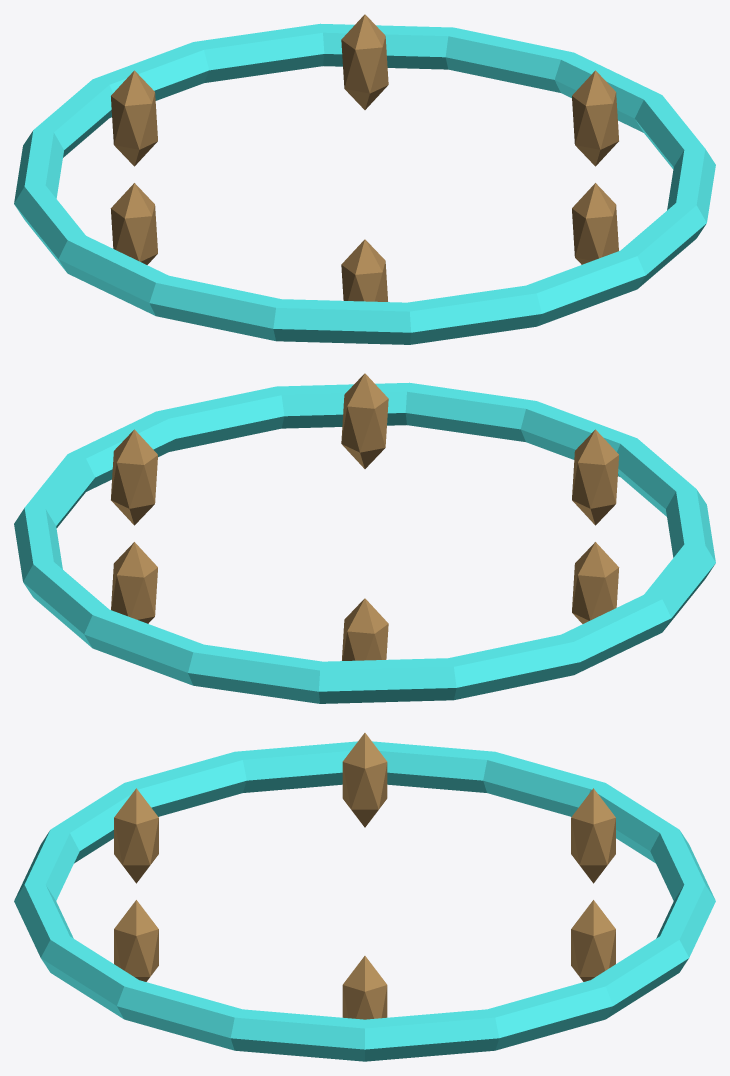
File: SH10_L10_CoreRing.fbx
The picture shows the model from 3 angles, top to bottom: view 1: azimuth 30°, elevation 25°; view 2: azimuth 150°, elevation 25°; view 3: azimuth 270°, elevation 25°; orthographic projection.
Visible parts, largest first — view 1: SH10_L10_CoreRing; view 2: SH10_L10_CoreRing; view 3: SH10_L10_CoreRing.
Part boxes in pixels (bbox=[...]): SH10_L10_CoreRing: bbox=[14, 14, 715, 344]; SH10_L10_CoreRing: bbox=[14, 373, 715, 703]; SH10_L10_CoreRing: bbox=[14, 733, 715, 1061].
Bounding box in the file's own units: 266 × 40 × 266.
